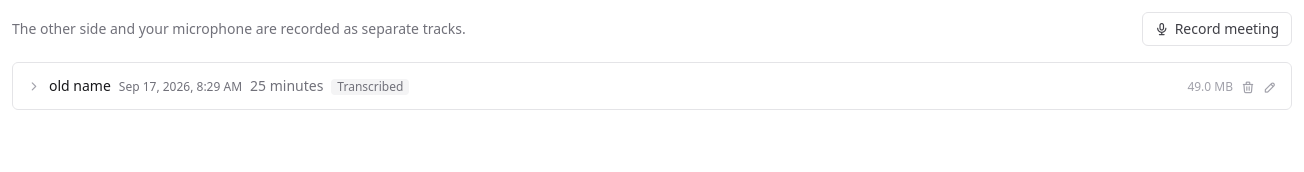
it: renaming a meeting › round-trips: edit, save, and the new title comes back on the row
expect the list with test id "meetings-list" is shown: met, box [12,62,1292,110]
Click the button with test id "rename-start" at (1270, 86), box [1263,75,1277,97]
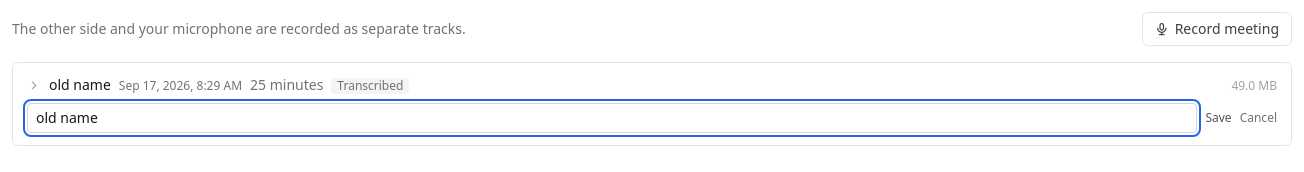
Replace the text in the field named "Meeting title" with "Kate — June delivery" at (612, 118), box [27,103,1198,133]
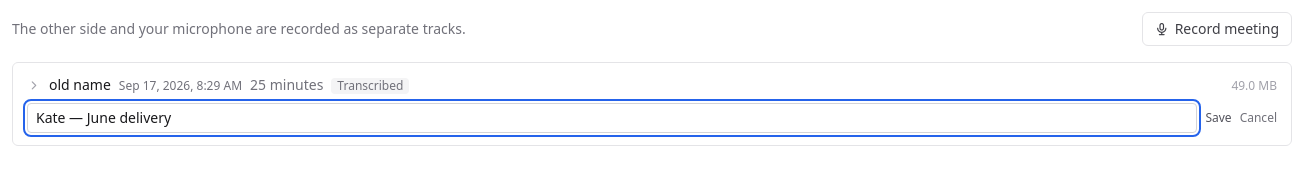
Click the button "Save" at (1219, 118), box [1206,110,1232,126]
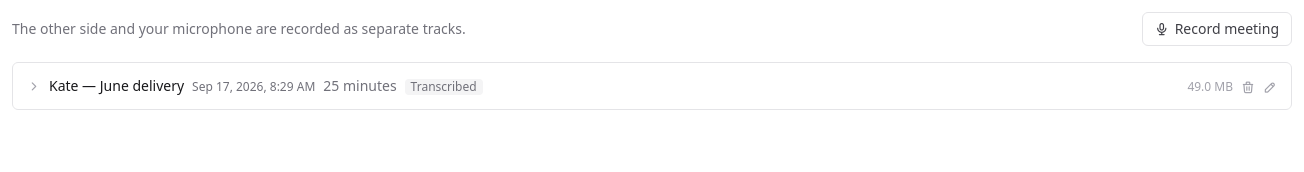
expect the text with test id "meeting-title" reads "Kate — June delivery": met, box [49,76,184,95]
expect the element with test id "rename-editor" is gone: met
